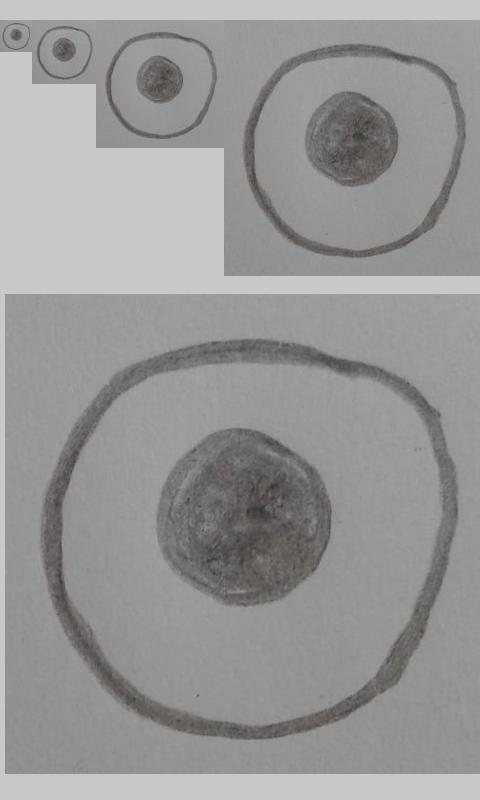radio_button: (42, 337, 459, 742), (242, 42, 469, 261), (104, 30, 217, 141), (36, 25, 92, 80), (2, 22, 31, 51)
